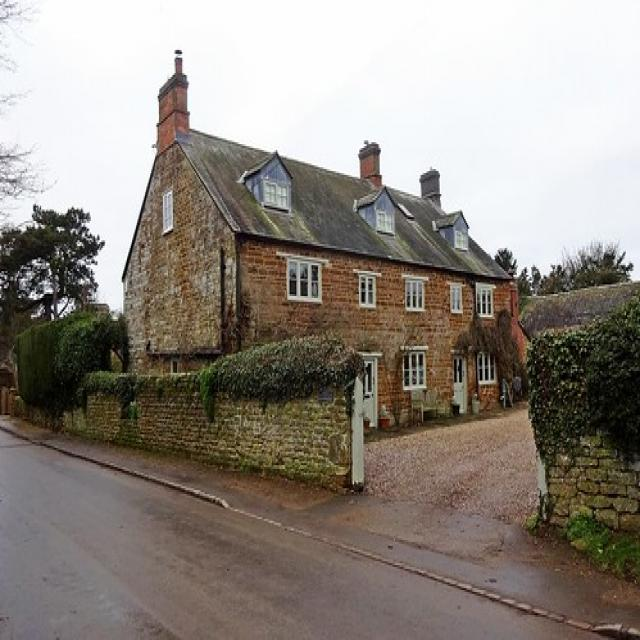Normal_building: (119, 68, 520, 445)
